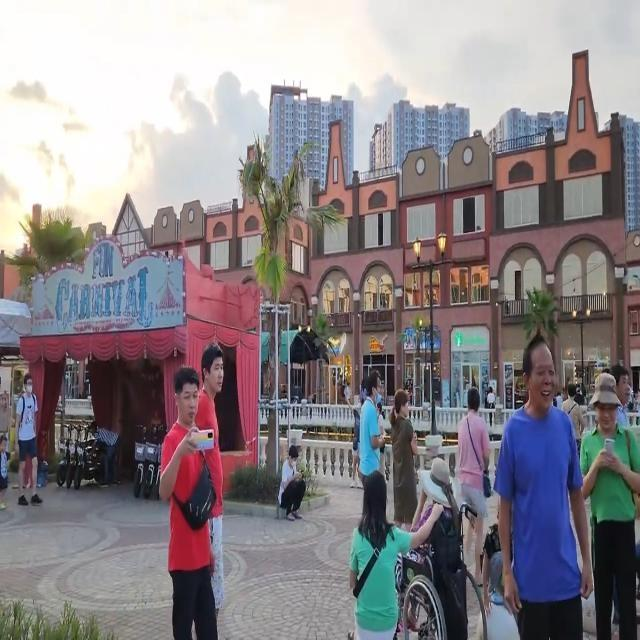hairnet: (370, 378, 383, 403)
